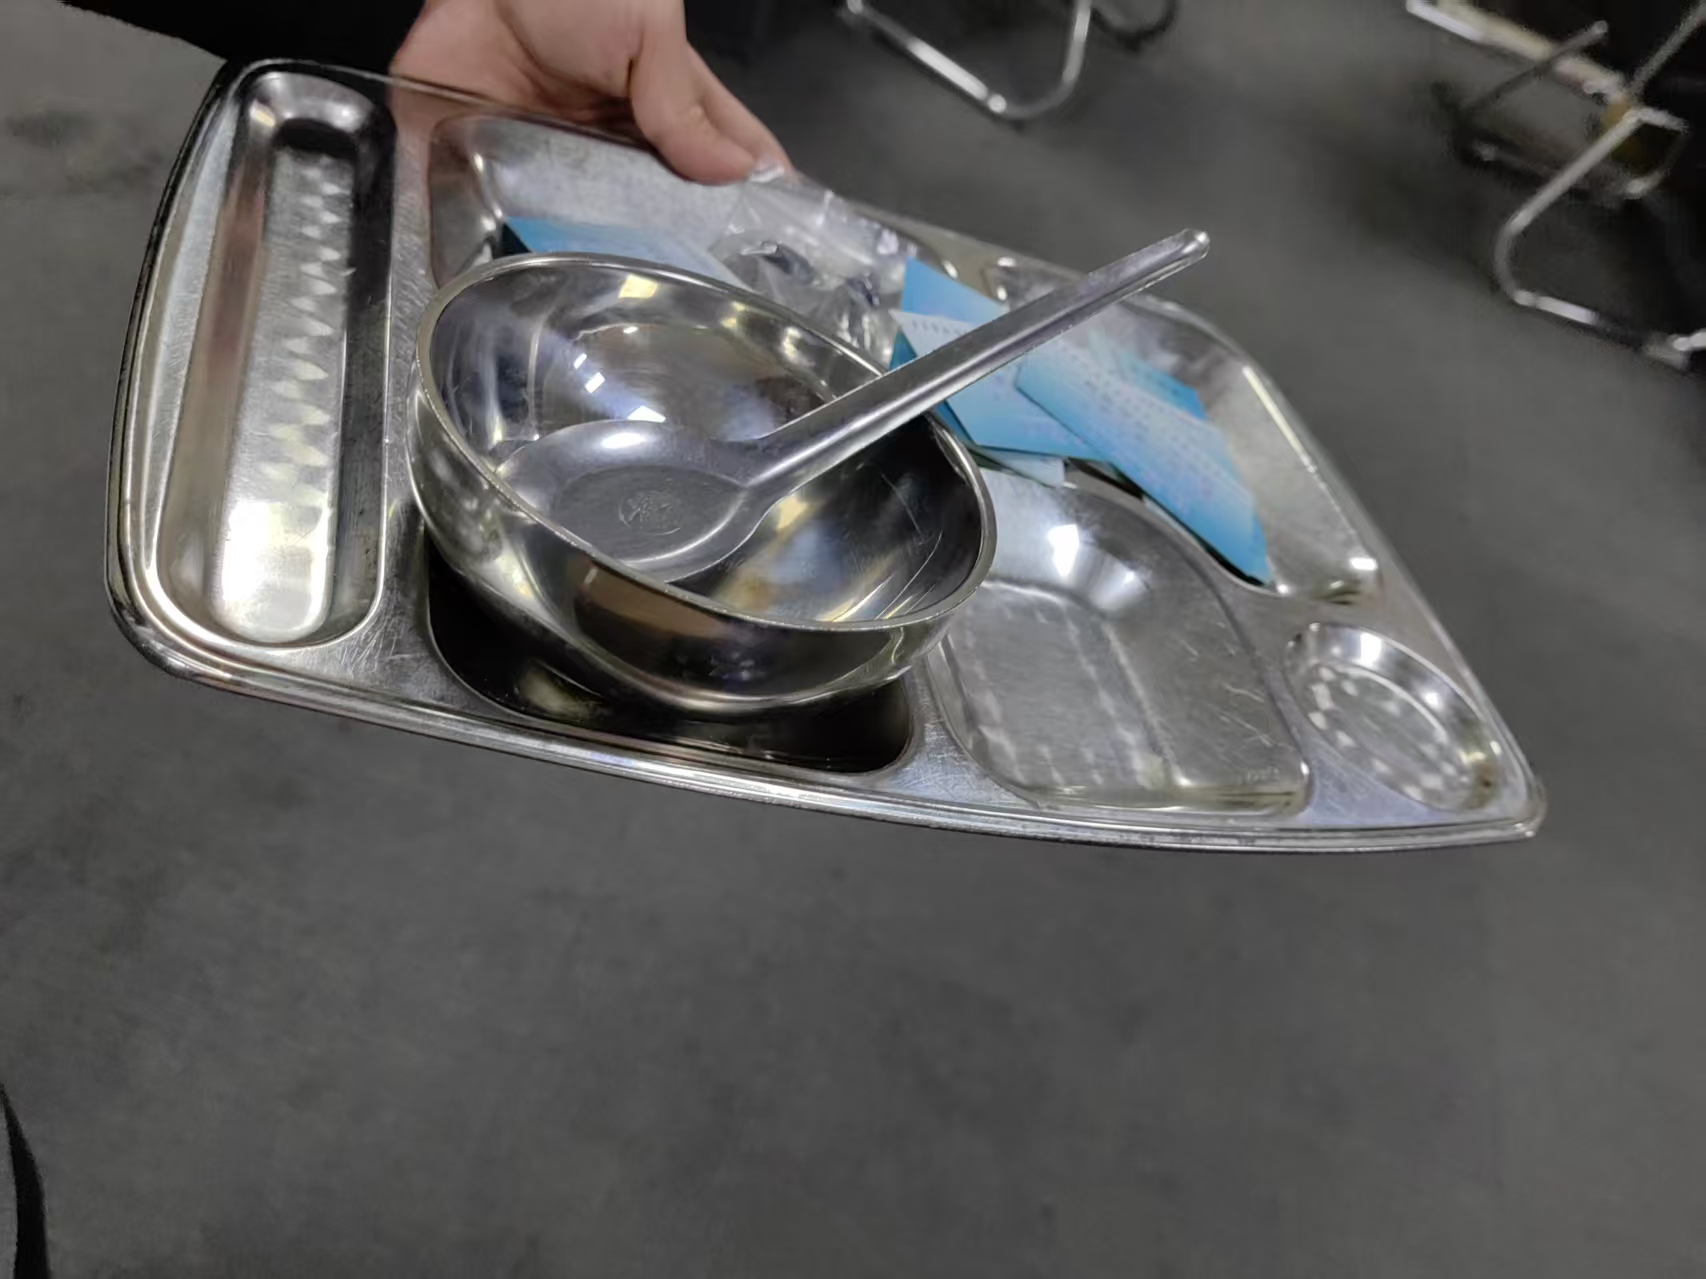moderate: (500, 182, 1283, 585)
plate: (97, 49, 1553, 860)
